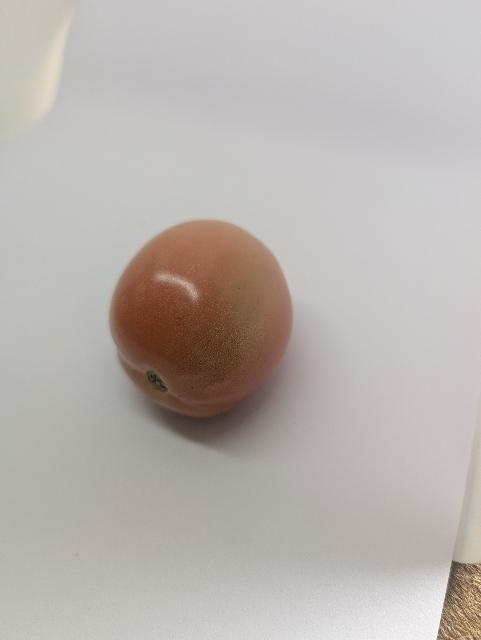turning: (102, 205, 299, 429)
